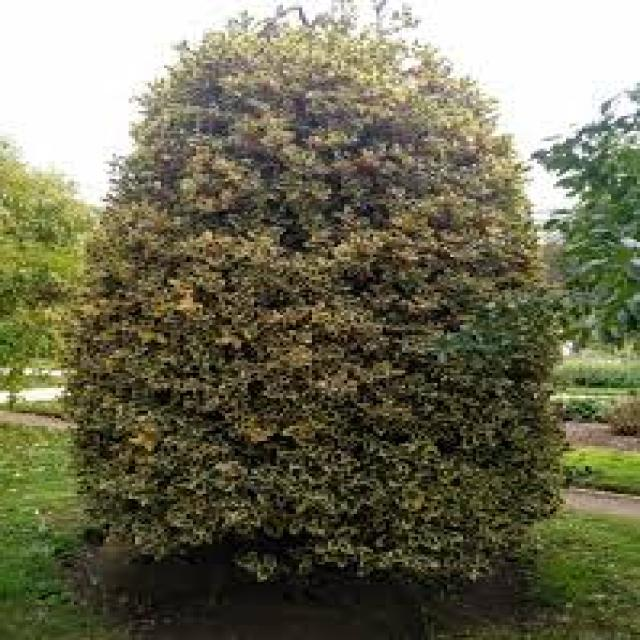acebo: (80, 6, 572, 602)
